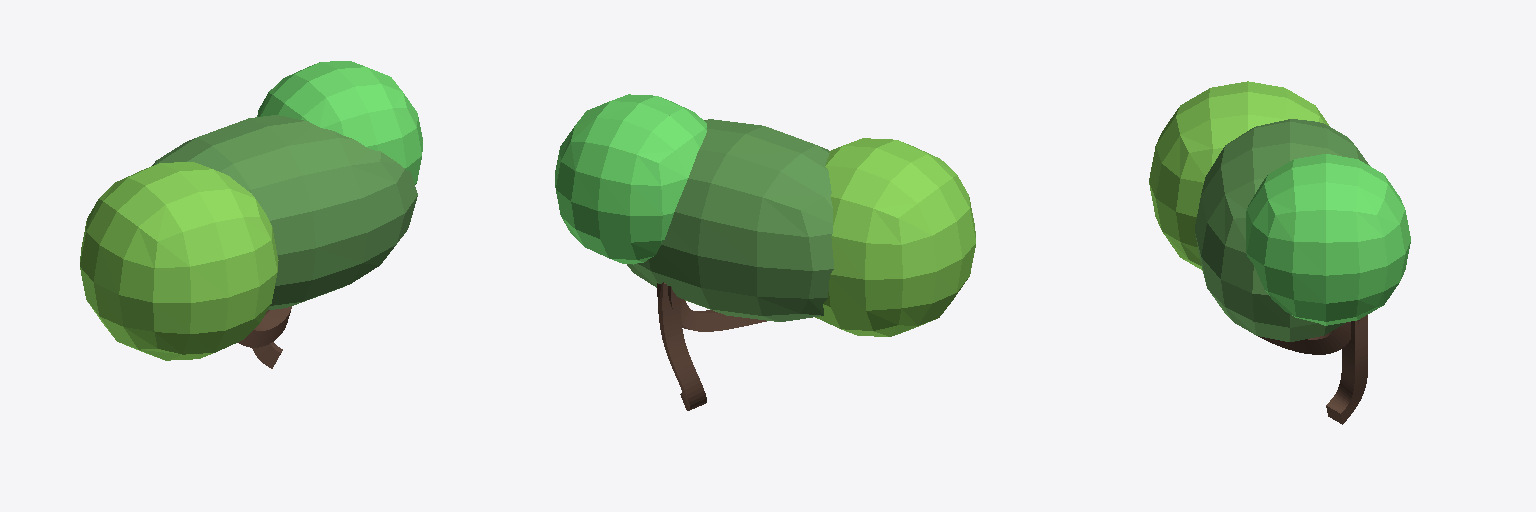
The picture shows the model from 3 angles: view 1: azimuth 30°, elevation 25°; view 2: azimuth 150°, elevation 25°; view 3: azimuth 270°, elevation 25°; orthographic projection.
Parts seen in each view (by area): view 1: arbusto1_Cube.033; view 2: arbusto1_Cube.033; view 3: arbusto1_Cube.033.
Part boxes in pixels (x1,y1,x2,y2): arbusto1_Cube.033: (80,61,422,368); arbusto1_Cube.033: (555,94,975,410); arbusto1_Cube.033: (1149,81,1410,424).
Bounding box in the file's own units: 140 × 108 × 88.92.
Materials: 1 (1 with a texture image).